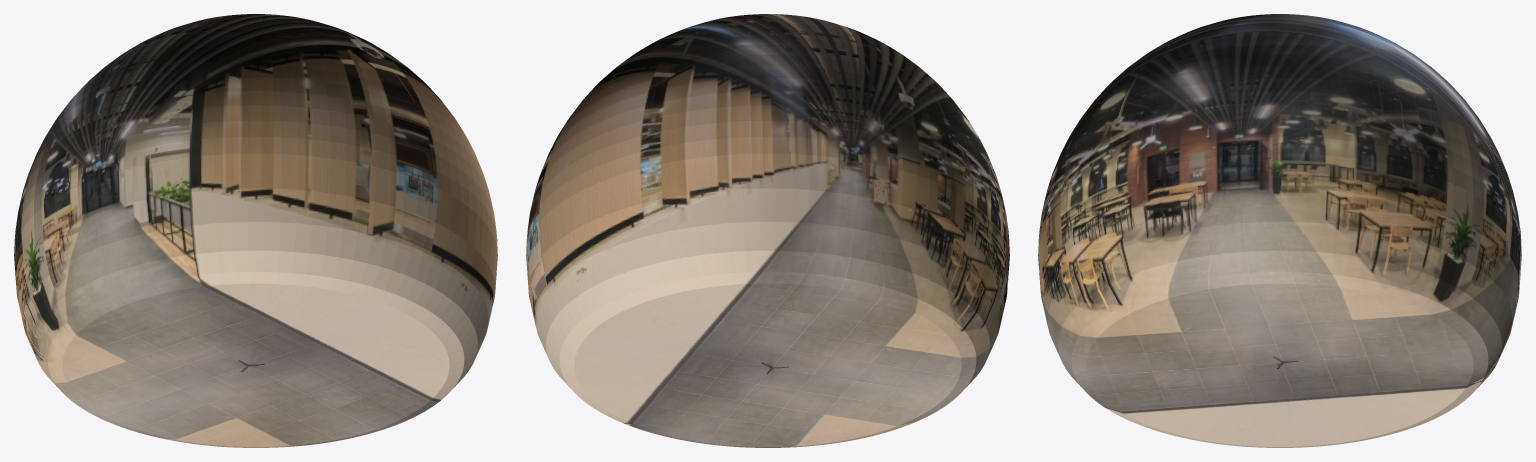
Rendered from mens-hall-079.glb.
3 views of the same model, side by side, from view 1: azimuth 30°, elevation 25°; view 2: azimuth 150°, elevation 25°; view 3: azimuth 270°, elevation 25° (orthographic).
Bounding box in the file's own units: 2 × 1.5 × 2.
1 material, 1 textured.
